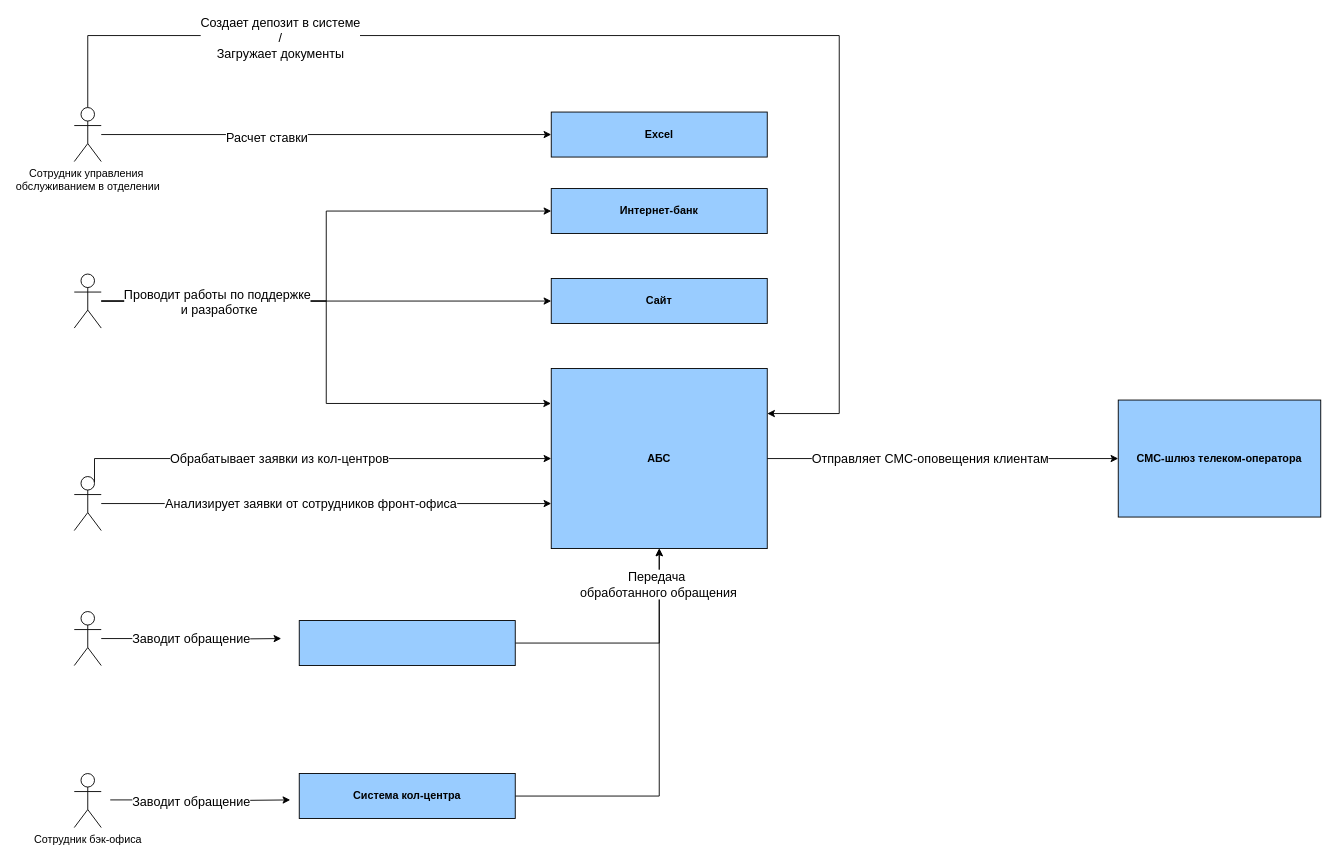
This 1337x862 diagram has some shape labels left out. Here are the shapes that lost their labels. From the top down, the centre of each, then its label:
At point (87, 300): "Сотрудник управления IT".
At point (87, 503): "Сотрудник отдела кредитования/депозитов".
At point (87, 638): "Сотрудник кол-центра".
At point (406, 643): "Система партнёрского кол-центра".
